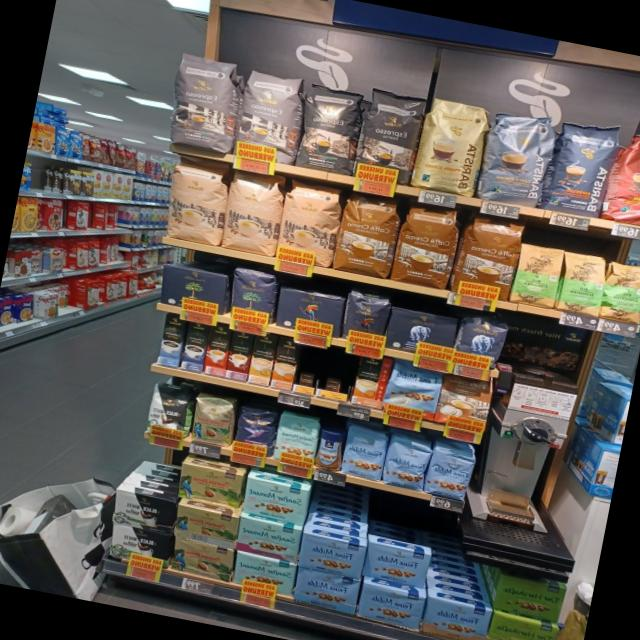AB Bohne: (452, 313, 512, 372)
AB Gemahlen: (382, 306, 460, 362)
Athiopien Bohne: (597, 257, 640, 325)
Athiopien Gemahlen: (508, 239, 566, 310), (556, 248, 612, 317)
BM Bohne: (225, 267, 280, 326)
BM Gemahlen: (156, 263, 231, 317)
BW Bohne: (144, 381, 198, 442)
BW Gemahlen: (110, 490, 178, 535), (108, 524, 175, 569)
Barista CB: (409, 95, 491, 198)
Barista CC: (474, 105, 556, 209)
Barista Espresso: (542, 116, 622, 222)
Barista Kolumbien: (602, 127, 640, 231)
C Fino Bohne: (230, 404, 279, 459)
CC Mild: (161, 154, 232, 246), (274, 176, 344, 268), (220, 169, 288, 258)
CC Vollmundig: (432, 374, 494, 433)
CC Vollmundig 36 Pads: (450, 210, 528, 304), (390, 200, 462, 292), (331, 190, 404, 280)
Colombia BB Bohne: (188, 394, 240, 448)
Colombia BB Gemahlen: (168, 537, 236, 583), (175, 464, 244, 509), (172, 504, 240, 549)
Espresso Aromatisch: (161, 52, 243, 153), (230, 64, 308, 168)
Espresso Kraftig: (352, 88, 428, 186), (293, 80, 367, 178)
FM 36 Pads: (382, 363, 444, 422)
FM Bohne: (423, 444, 478, 501), (382, 435, 433, 492), (339, 424, 389, 482)
FM Gemahlen: (354, 582, 428, 632), (296, 534, 368, 580), (293, 568, 362, 615), (362, 542, 432, 588), (420, 596, 492, 640)
FM Instant: (312, 426, 346, 472)
Herzhatfe Mundig: (492, 574, 566, 624), (485, 614, 560, 640)
LG Bohne: (338, 288, 394, 348)
LG Gemahlen: (272, 286, 347, 340)
SM Bohne: (272, 411, 322, 468)
SM Gemahlen: (241, 478, 309, 526), (234, 517, 302, 563), (231, 552, 296, 594)
Simo CCMild bigpack: (247, 332, 278, 386)
Simo CCVollmundig: (351, 353, 393, 410)
Simo CCVollmundig bigpack: (270, 337, 302, 392)
Simo Es Brazil: (203, 325, 232, 377)
Simo Es Caramel: (224, 331, 254, 382)
Simo Es Kraft: (180, 321, 210, 373)
Simo Es Vanilla: (156, 315, 187, 368)
